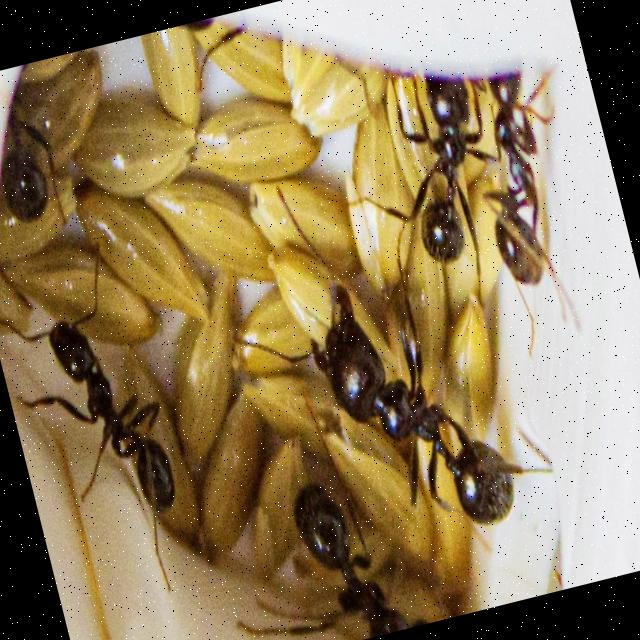Minor: (0, 246, 203, 615), (325, 63, 535, 332)
Soldier: (204, 138, 562, 575)
